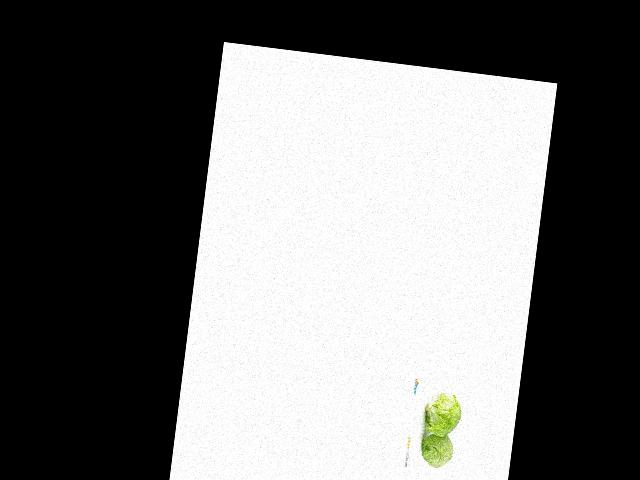lettuce: (412, 421, 456, 470)
